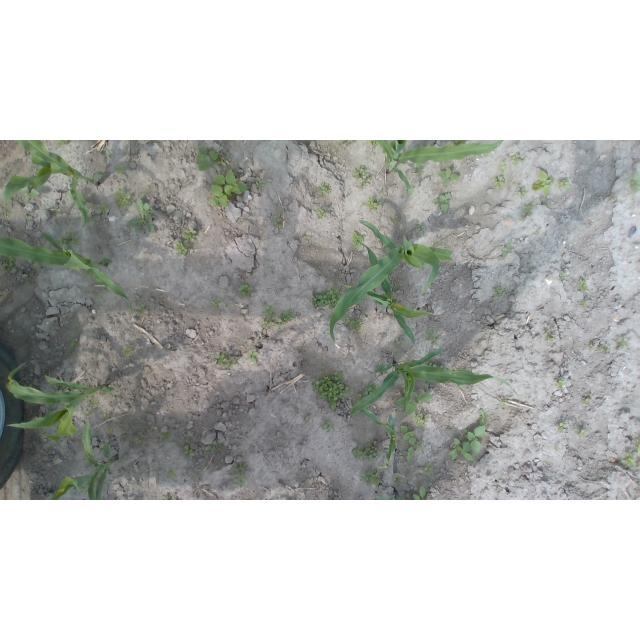Maize: (330, 221, 455, 348), (349, 348, 519, 418), (1, 229, 134, 318), (344, 237, 434, 345), (2, 140, 103, 230), (5, 361, 113, 444), (376, 140, 504, 192), (49, 417, 119, 500), (362, 410, 399, 469)
Weeds: (451, 409, 487, 461), (211, 168, 247, 206), (316, 369, 347, 411), (131, 199, 157, 233), (263, 305, 297, 327), (314, 285, 343, 308), (532, 167, 555, 194), (195, 146, 218, 170), (353, 441, 379, 460), (353, 165, 372, 188), (435, 191, 453, 214), (439, 166, 461, 184), (215, 352, 237, 369), (233, 462, 247, 488), (400, 425, 417, 444), (424, 330, 441, 347), (365, 469, 382, 486), (346, 316, 364, 332), (502, 236, 515, 257), (116, 188, 131, 206), (21, 187, 39, 201), (630, 169, 640, 194), (623, 452, 638, 468), (60, 233, 78, 246), (545, 324, 558, 342), (412, 486, 428, 500), (175, 241, 189, 256), (184, 439, 195, 458), (247, 347, 260, 363), (352, 232, 364, 249), (526, 198, 538, 215), (205, 439, 219, 453), (366, 197, 381, 210), (239, 286, 253, 299), (322, 419, 335, 433), (363, 380, 376, 394), (509, 153, 525, 164), (616, 336, 629, 349), (123, 343, 134, 358), (632, 434, 640, 454), (495, 176, 507, 189), (412, 413, 424, 425), (95, 206, 110, 215), (3, 258, 15, 269), (424, 463, 435, 475), (558, 179, 570, 190), (187, 228, 197, 241), (255, 177, 268, 187), (315, 209, 328, 218), (579, 279, 588, 292), (318, 183, 328, 194), (121, 427, 132, 437), (134, 305, 146, 314), (407, 448, 414, 463), (340, 140, 357, 146), (515, 186, 525, 196), (272, 217, 282, 227), (412, 162, 422, 172), (117, 164, 128, 173), (25, 276, 36, 285), (602, 344, 613, 353), (500, 161, 508, 173), (415, 224, 425, 233), (395, 476, 405, 485), (163, 431, 173, 440), (557, 421, 565, 432), (493, 287, 501, 298), (561, 271, 568, 282), (103, 412, 112, 420), (417, 442, 425, 451), (557, 381, 567, 388), (369, 141, 382, 146), (392, 214, 400, 222), (168, 470, 176, 478), (396, 338, 405, 345), (212, 297, 219, 305), (578, 429, 586, 436), (583, 398, 591, 405), (59, 141, 70, 146), (454, 140, 467, 144), (72, 341, 79, 348), (106, 427, 113, 433), (135, 438, 142, 444), (582, 299, 589, 305), (555, 445, 561, 451), (501, 397, 508, 402), (590, 342, 595, 348), (590, 220, 595, 225), (521, 218, 528, 221)
